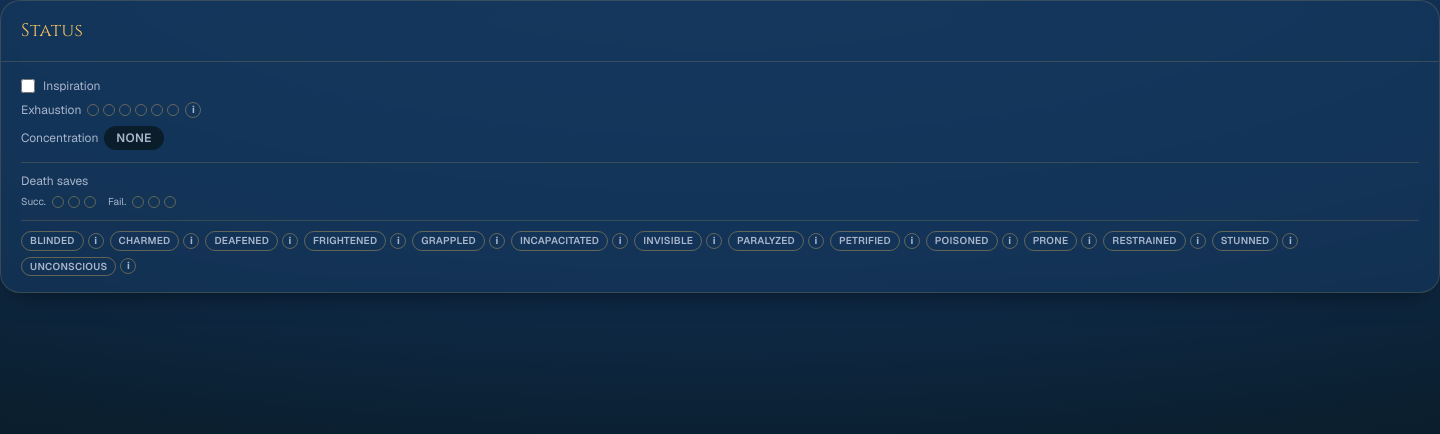
Test case: StatusPanel › conditions › each condition's tooltip describes its effect
Click the button named "About Incapacitated": (620, 241) 612,233 -> 628,249
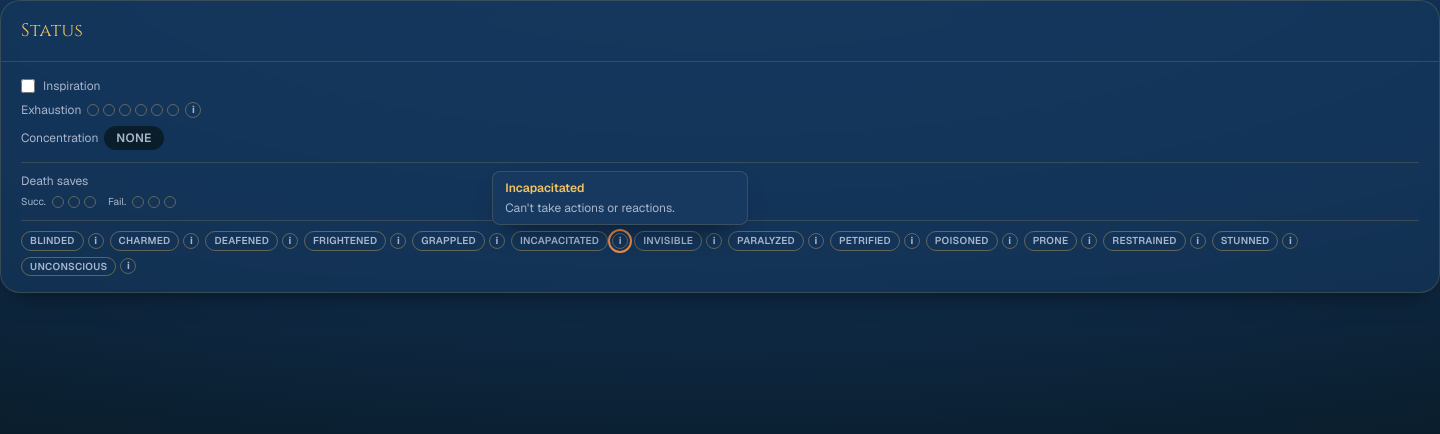
Expected: the tooltip shows "Can't take actions or reactions.", 505,200 -> 675,216
